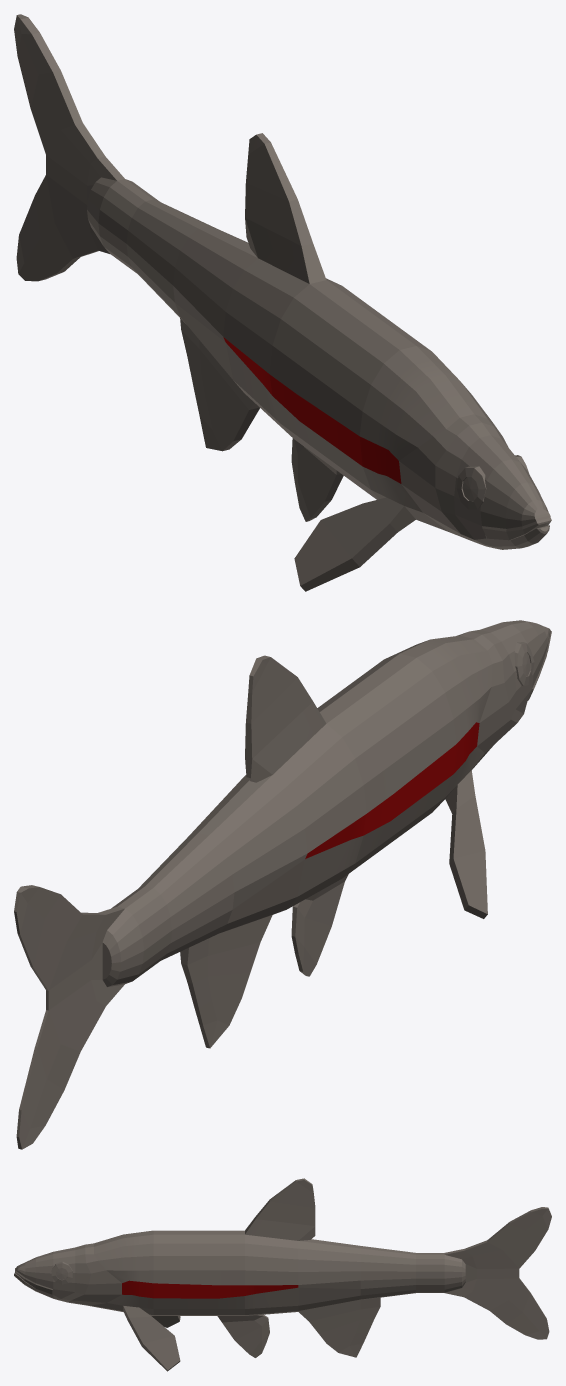
The model's file is RedDace_LowPoly.fbx.
3 renders of one model, top to bottom at view 1: azimuth 30°, elevation 25°; view 2: azimuth 150°, elevation 25°; view 3: azimuth 270°, elevation 25°, orthographic. The views are drawn at different scales.
Visible parts, largest first — view 1: pSphere2; view 2: pSphere2; view 3: pSphere2.
Part boxes in pixels (x1=…): pSphere2: x1=14, y1=14, x2=551, y2=591; pSphere2: x1=14, y1=620, x2=551, y2=1149; pSphere2: x1=14, y1=1178, x2=551, y2=1371.
Size of the model in its own units: 5.02 by 9.04 by 24.68.
